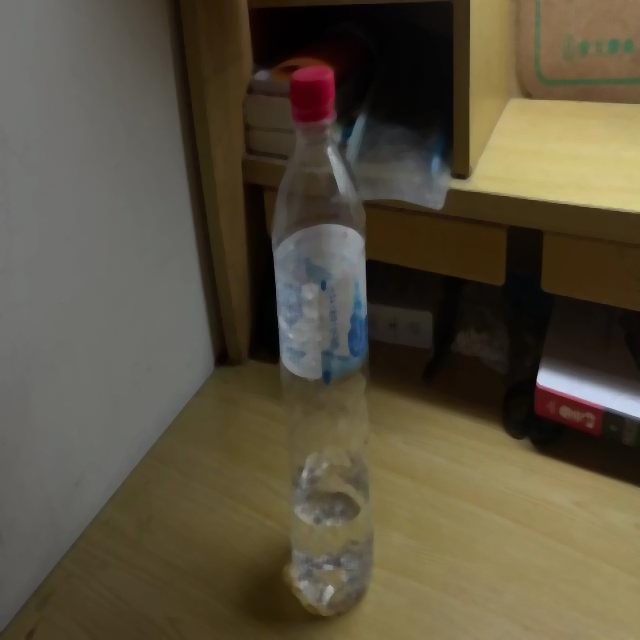Water: (272, 61, 376, 616)
